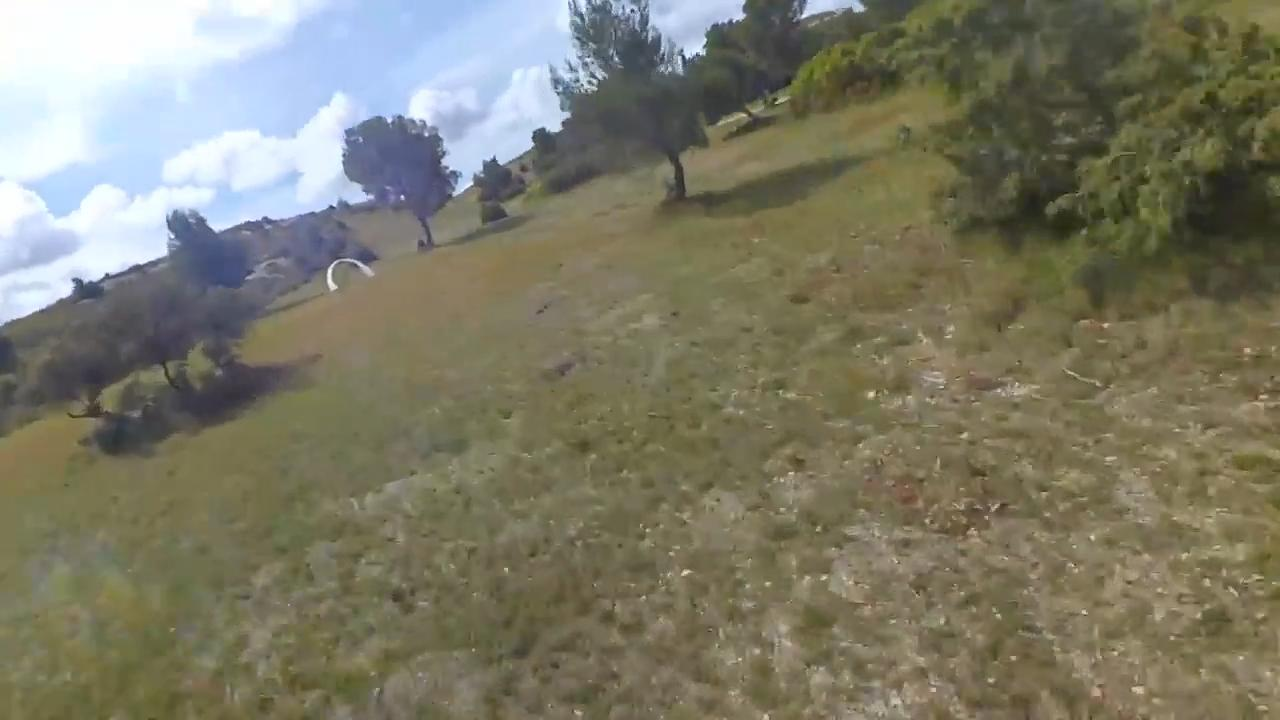gate: (325, 256, 376, 291)
